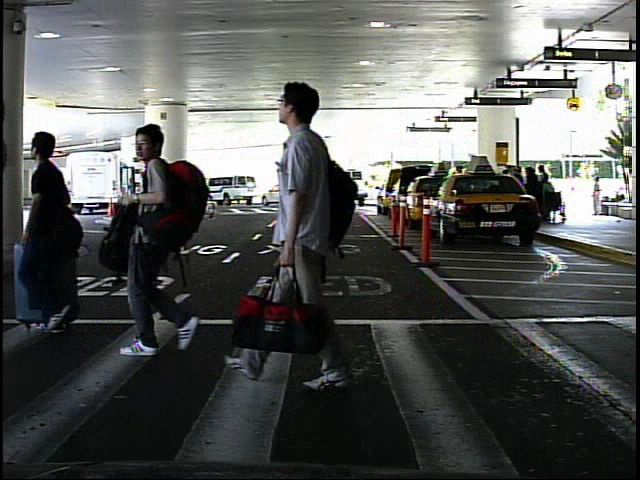person: (236, 64, 361, 394), (102, 111, 210, 363), (14, 115, 99, 355), (588, 174, 607, 219)
